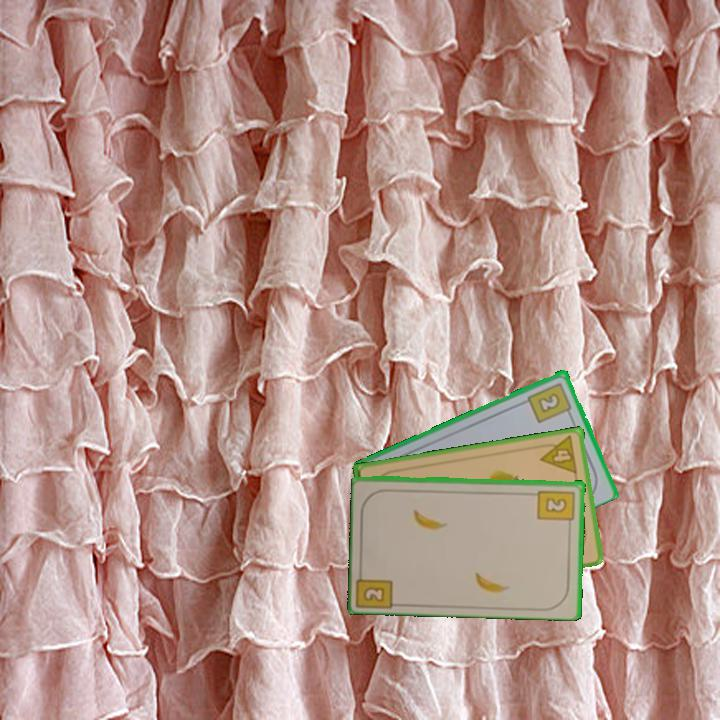2b: (524, 379, 575, 425), (355, 564, 397, 609), (535, 486, 577, 529)
4p: (536, 432, 580, 477)
